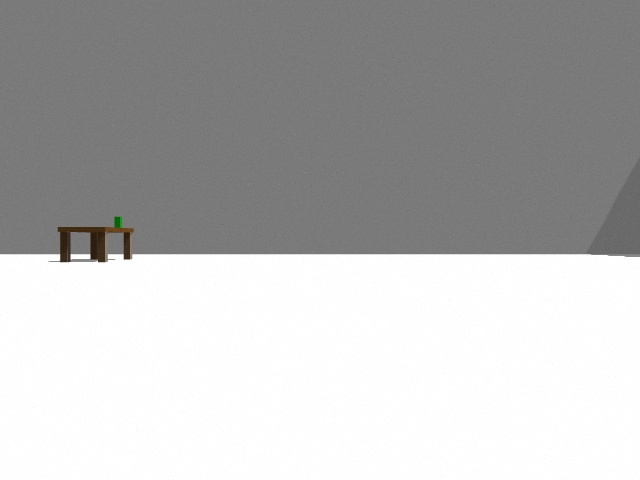green_cube: (114, 217, 122, 228)
